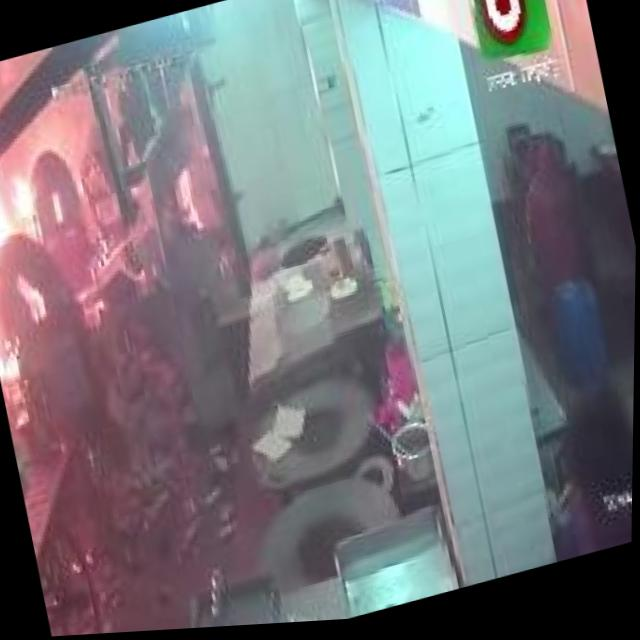fire: (0, 148, 65, 289), (21, 281, 64, 322), (0, 342, 32, 392)
